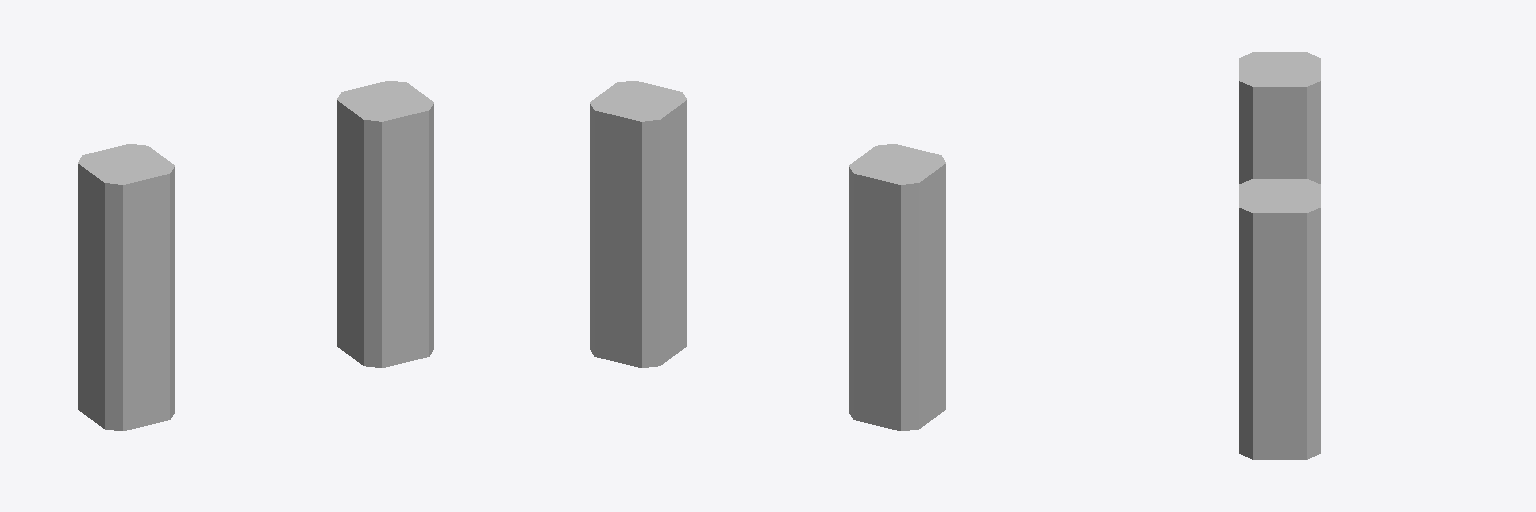
File: struct_large_steps_pillar_main.obj
The picture shows the model from 3 angles: view 1: azimuth 30°, elevation 25°; view 2: azimuth 150°, elevation 25°; view 3: azimuth 270°, elevation 25°; orthographic projection.
Parts seen in each view (by area): view 1: struct_large_steps_pillar_main; view 2: struct_large_steps_pillar_main; view 3: struct_large_steps_pillar_main.
Boxes of the visible parts, x1=… form: struct_large_steps_pillar_main: x1=78, y1=81, x2=433, y2=430; struct_large_steps_pillar_main: x1=590, y1=81, x2=945, y2=430; struct_large_steps_pillar_main: x1=1239, y1=52, x2=1320, y2=459.
Bounding box in the file's own units: 1.4 × 1 × 0.3.